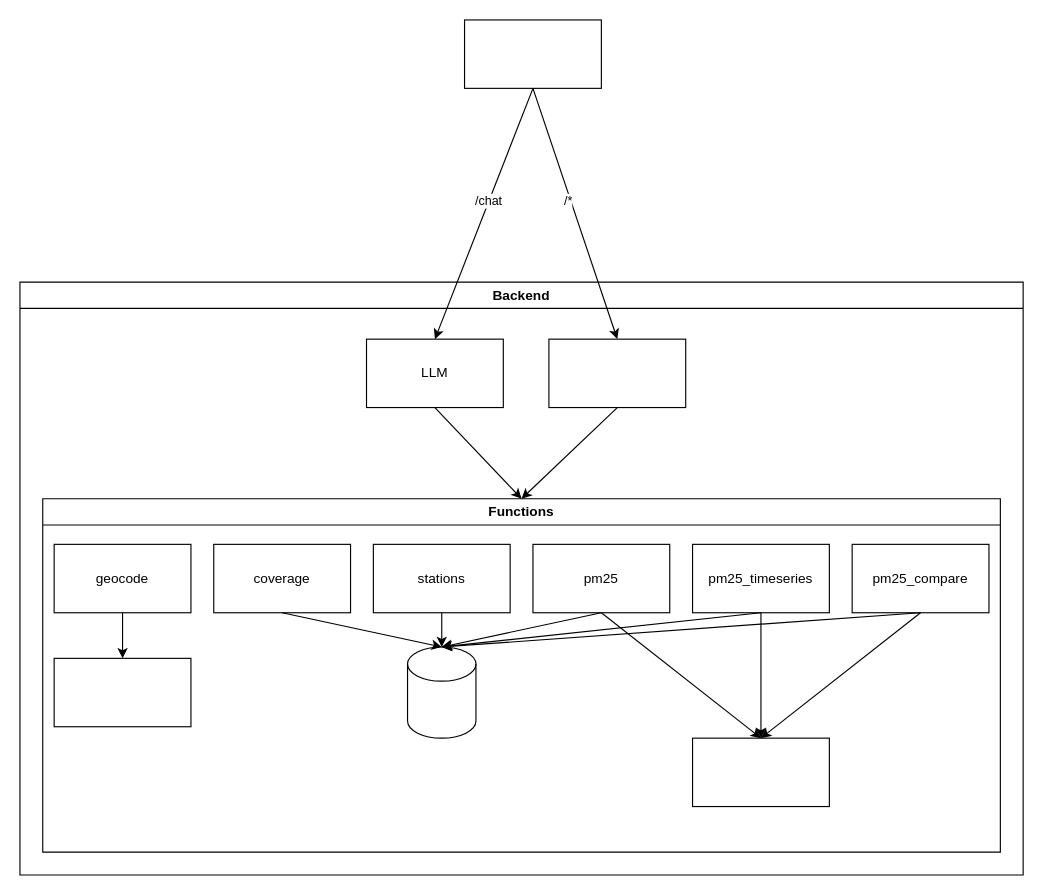
This 1043x895 diagram has some shape labels left out. The shapes that lost their labels are listed below. From the top down, each one's box as (x1, y1, x2, y2) in pixels, then its label:
(463, 19, 601, 88): Frontend
(548, 338, 686, 408): REST API
(53, 657, 191, 727): PDOK
(406, 646, 476, 738): Parquet
(691, 737, 829, 807): R-functions
